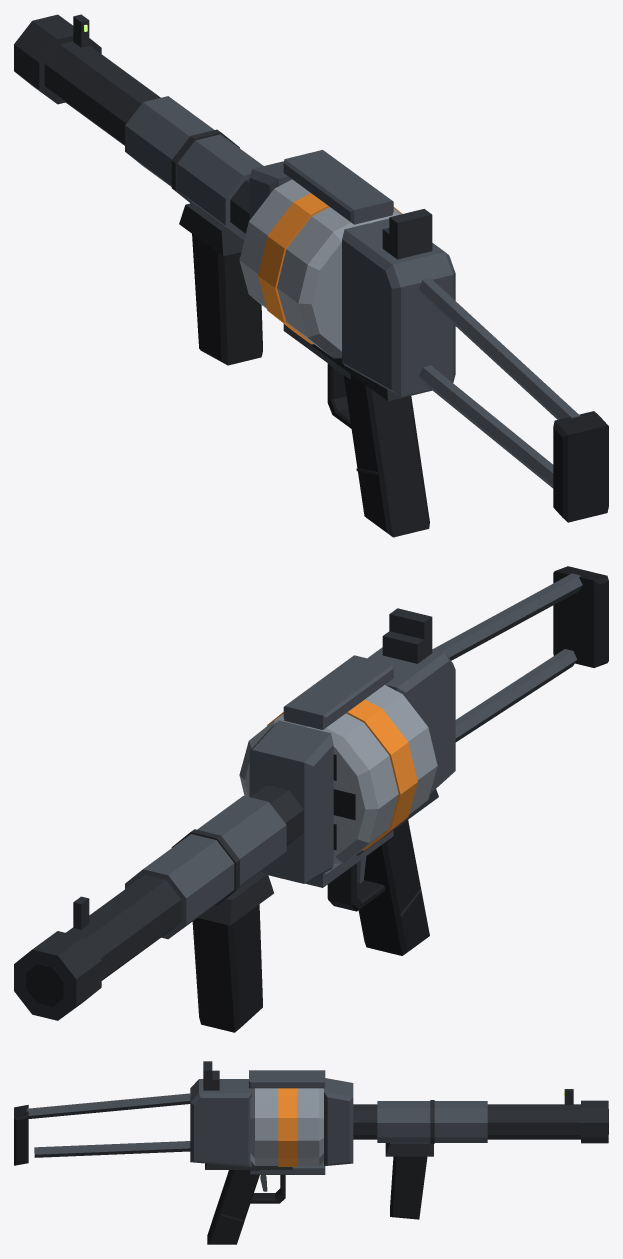
Rendered from grenade_launcher.glb.
The picture shows the model from 3 angles, top to bottom: view 1: azimuth 30°, elevation 25°; view 2: azimuth 150°, elevation 25°; view 3: azimuth 270°, elevation 25°; orthographic projection. The views are drawn at different scales.
Visible parts, largest first — view 1: Body, Cylinder; view 2: Body, Cylinder; view 3: Body, Cylinder.
Boxes of the visible parts, x1,y1,x2,y2 form: Body: (14,14,608,537); Cylinder: (239,179,402,358); Body: (14,566,608,1032); Cylinder: (239,685,437,863); Body: (14,1061,608,1244); Cylinder: (250,1088,323,1166).
Bounding box in the file's own units: 0.123 × 0.261 × 0.8103.
